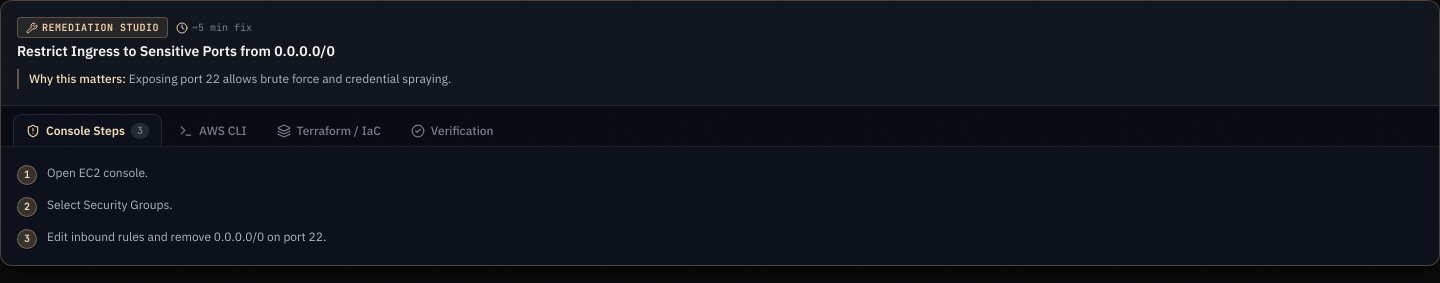
Test: RemediationStudio › switches tabs between Console, AWS CLI, Terraform, and Verification
This screenshot has width=1440, height=283.
Note: Switch to AWS CLI tab
Step 1. Click the button "AWS CLI" → (213, 130), box [166,114,260,147]
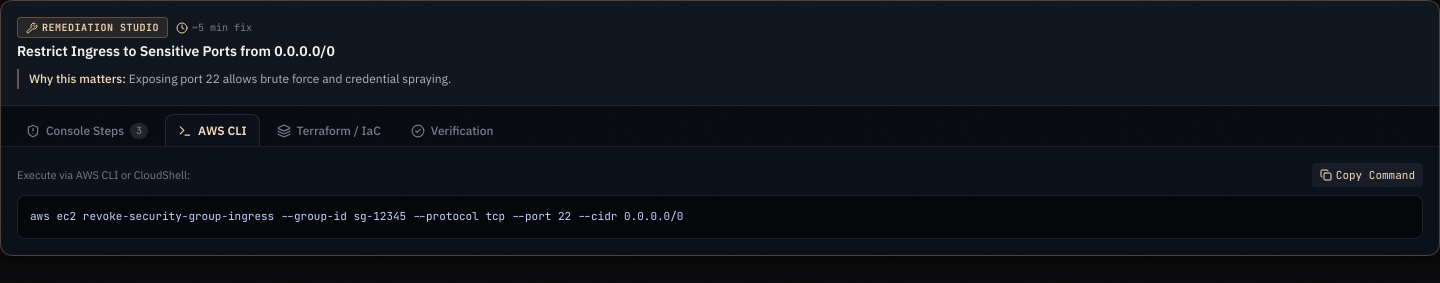
Check: the text "aws ec2 revoke-security-group-ingress" is shown, box [30,209,683,223]
Check: the button "Copy Command" is shown, box [1312,163,1423,187]
Note: Switch to Terraform tab
Step 2. Click the button "Terraform / IaC" → (329, 130), box [264,114,394,147]
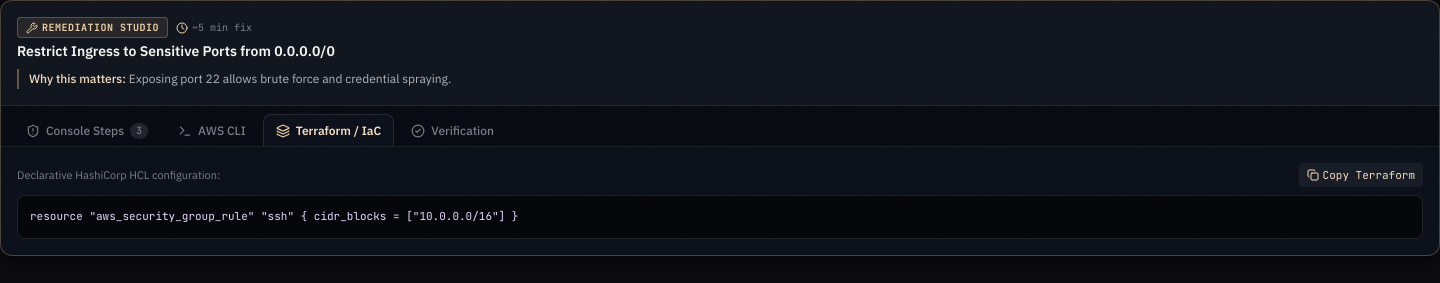
Check: the text "aws_security_group_rule" is shown, box [30,209,518,223]
Check: the button "Copy Terraform" is shown, box [1299,163,1423,187]
Note: Switch to Verification tab
Step 3. Click the button "Verification" → (453, 130), box [398,114,507,147]
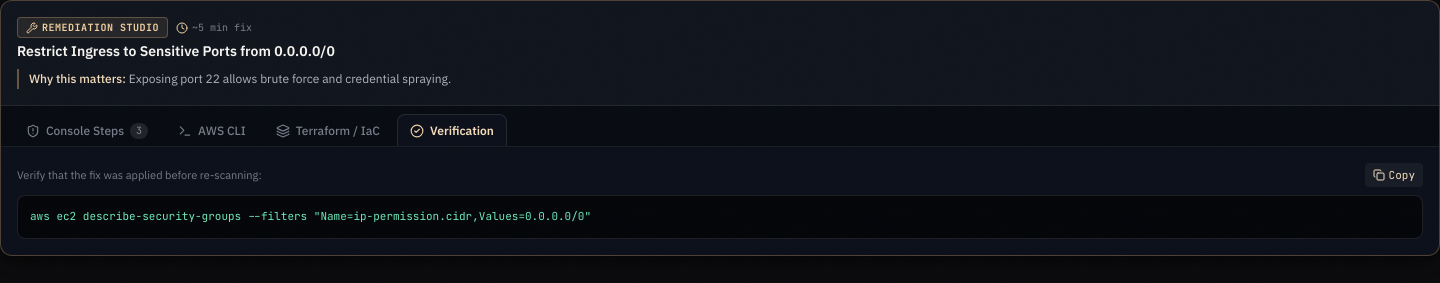
Check: the text "aws ec2 describe-security-groups" is shown, box [30,209,591,223]
